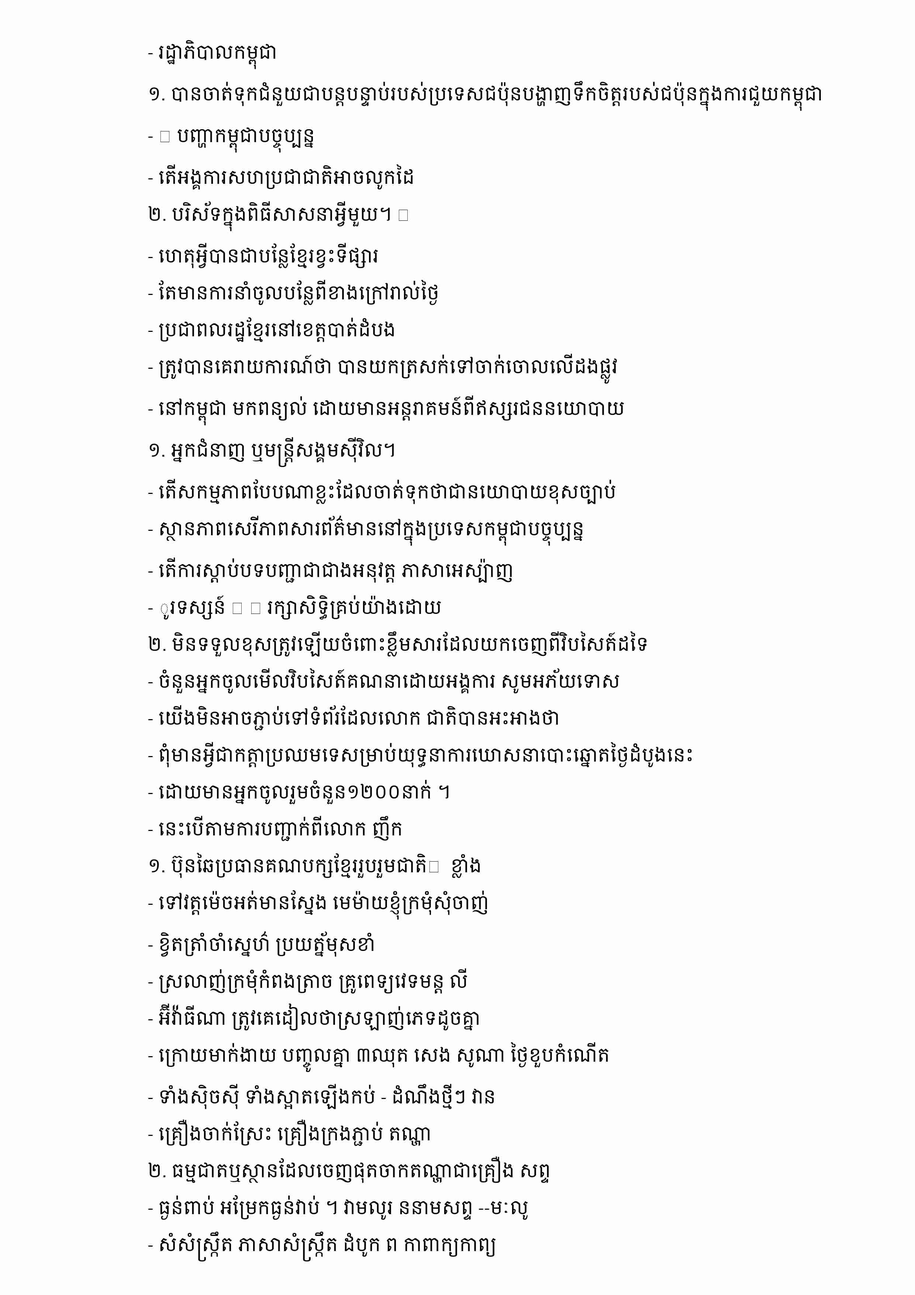text: (148, 81, 828, 111), (148, 395, 630, 426), (148, 354, 623, 384), (148, 1042, 615, 1072), (148, 742, 699, 767), (148, 515, 589, 546), (148, 631, 653, 657), (148, 668, 625, 694), (148, 479, 621, 504), (148, 1156, 556, 1183), (148, 705, 565, 731), (148, 1232, 501, 1262), (148, 890, 494, 920), (148, 1195, 534, 1220), (148, 557, 519, 583), (148, 1003, 486, 1031), (148, 1084, 501, 1109), (148, 853, 487, 878), (148, 968, 473, 994), (148, 201, 415, 231), (148, 1119, 436, 1146), (148, 437, 401, 467), (148, 595, 447, 620), (148, 280, 444, 305), (148, 780, 455, 804), (148, 164, 419, 190), (148, 816, 408, 841), (148, 317, 401, 342), (148, 931, 380, 957), (148, 243, 384, 268), (148, 127, 320, 153), (148, 40, 282, 69)
